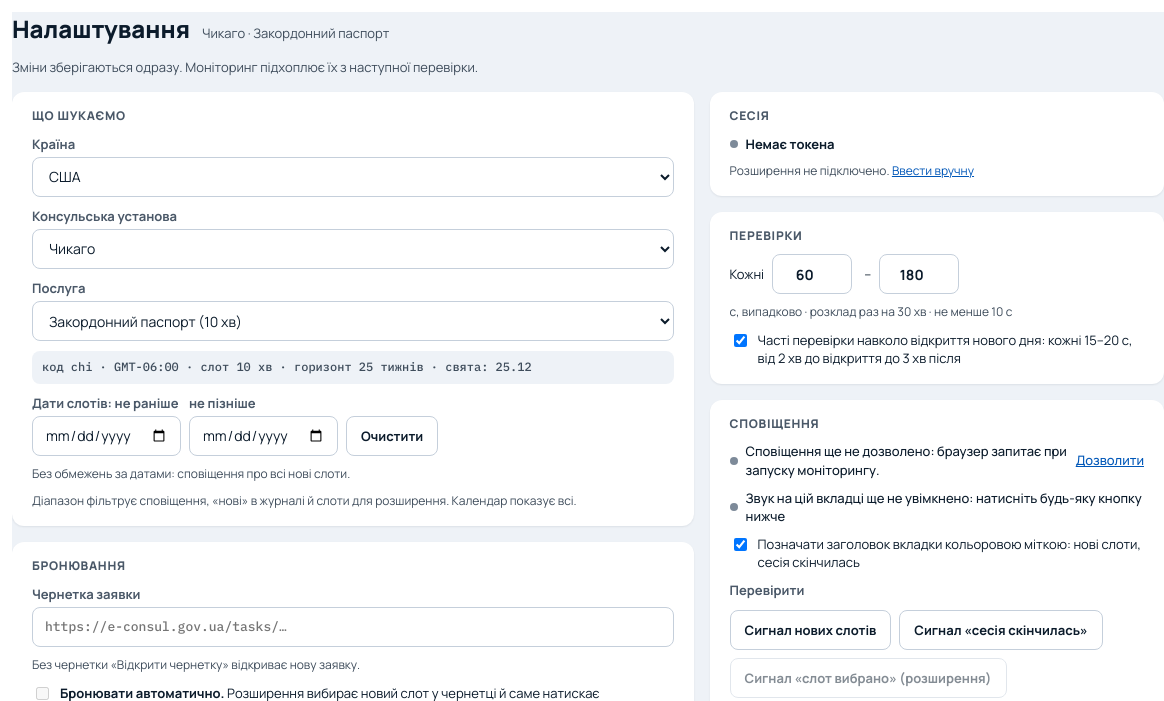
Test: SettingsView › explains a link that is not a draft
Type "https://example.com/x" into the field labelled "Чернетка заявки".
click(353, 627); type("https://example.com/x")  # box top-left (32, 607), bottom-right (674, 647)
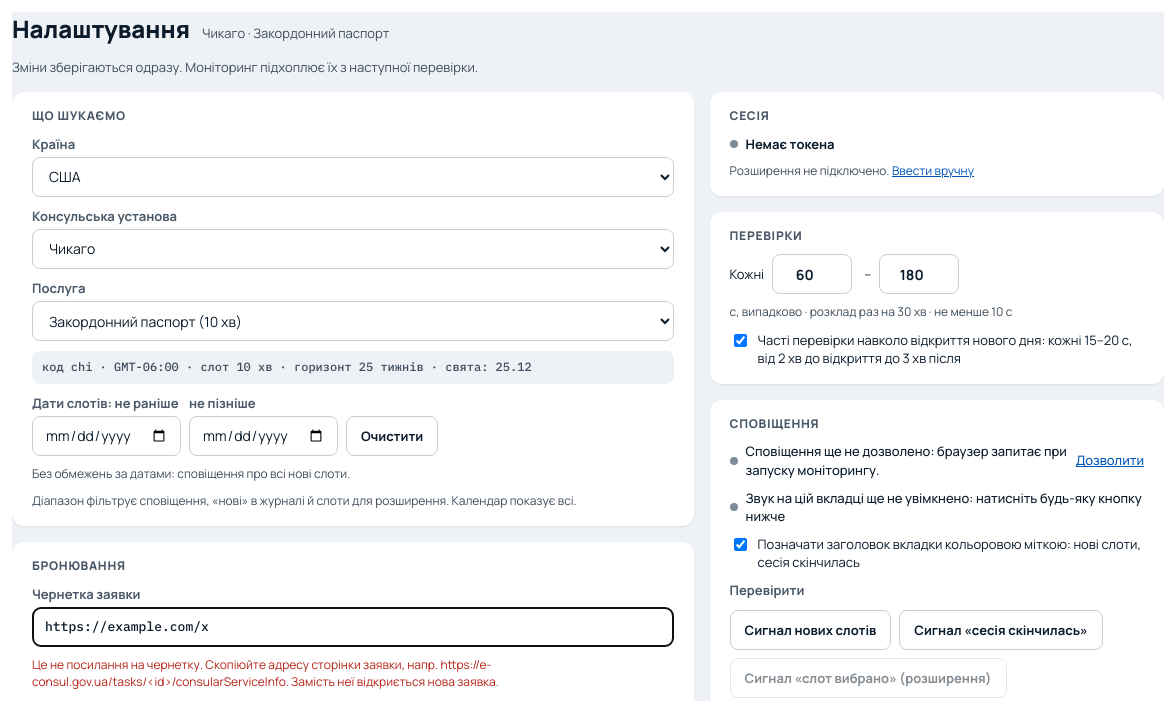
Now the text "Це не посилання на чернетку" is shown, box top-left (32, 656), bottom-right (499, 690)
